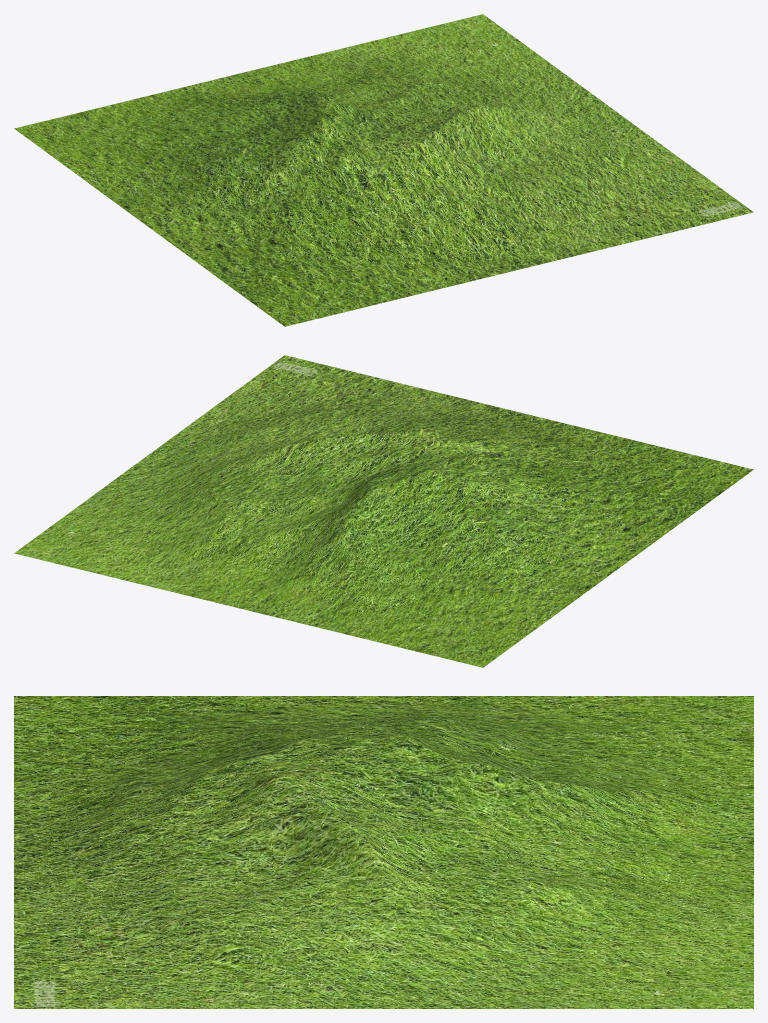
The model's file is land.glb.
The picture shows the model from 3 angles, top to bottom: view 1: azimuth 30°, elevation 25°; view 2: azimuth 150°, elevation 25°; view 3: azimuth 270°, elevation 25°; orthographic projection. The views are drawn at different scales.
Visible parts, largest first — view 1: 地形; view 2: 地形; view 3: 地形.
Part boxes in pixels (x1,y1,x2,y2): 地形: (14, 14, 753, 326); 地形: (14, 355, 753, 667); 地形: (14, 696, 753, 1008).
Size of the model in its own units: 71.41 by 8.7 by 71.41.
1 material, 1 textured.
